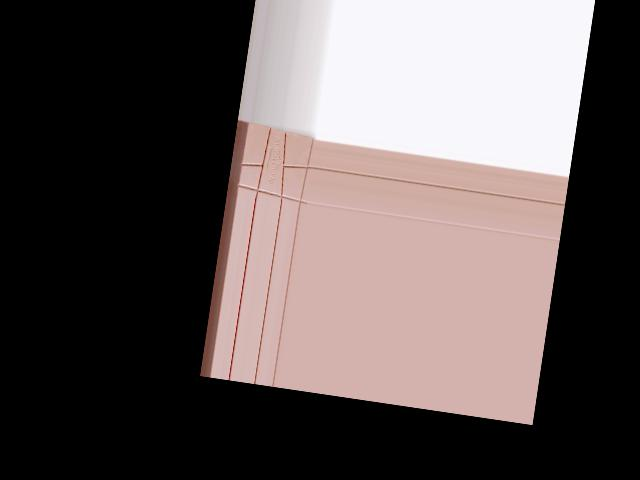chocolate: (232, 119, 317, 207)
